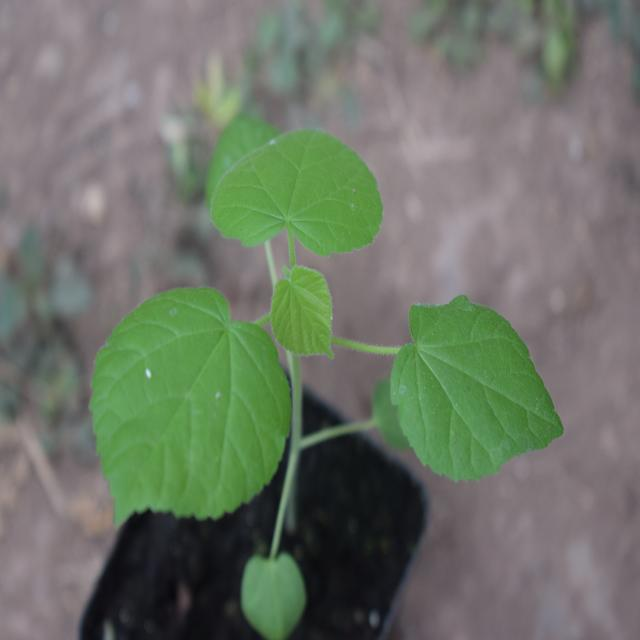abutilon theophrasti: (79, 113, 554, 573)
